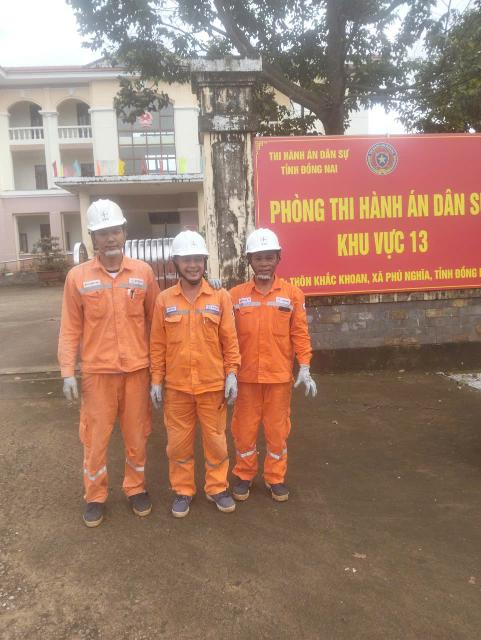gloves: (292, 361, 330, 404), (58, 374, 96, 410), (144, 375, 171, 414), (221, 369, 243, 406)
helmet: (74, 198, 135, 244), (162, 229, 221, 265), (245, 223, 286, 266)
shoes: (113, 477, 158, 524), (170, 478, 203, 528), (200, 486, 241, 521), (231, 462, 256, 511), (83, 492, 111, 532), (268, 467, 297, 504)
